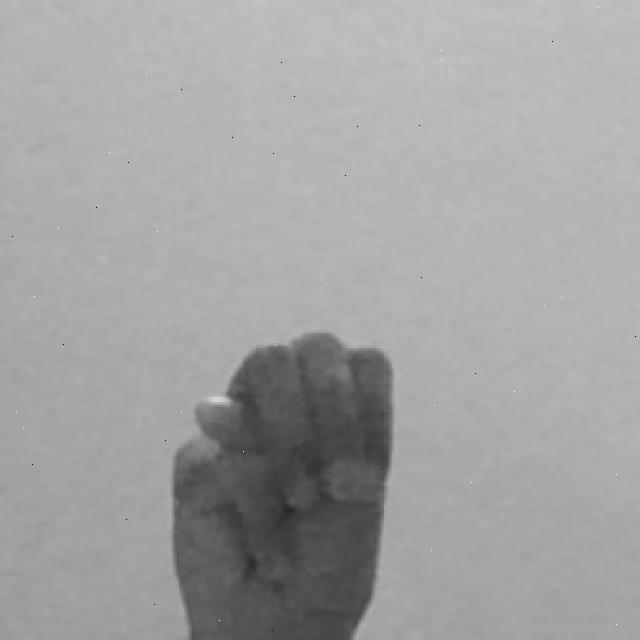M: (166, 327, 401, 640)
